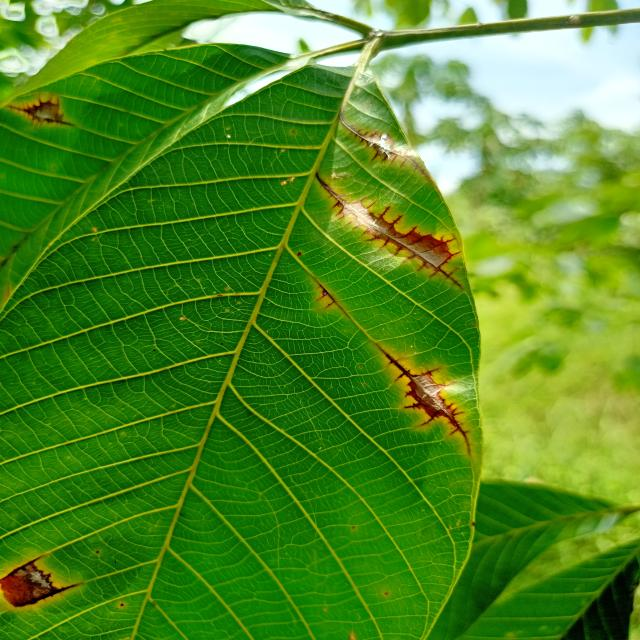Colletotrichum: (297, 252, 302, 256), (120, 603, 124, 606), (96, 551, 99, 553)
Corynespora: (316, 172, 464, 290), (378, 343, 472, 455), (338, 112, 428, 179), (0, 553, 83, 607), (2, 94, 74, 126), (315, 284, 351, 316)
